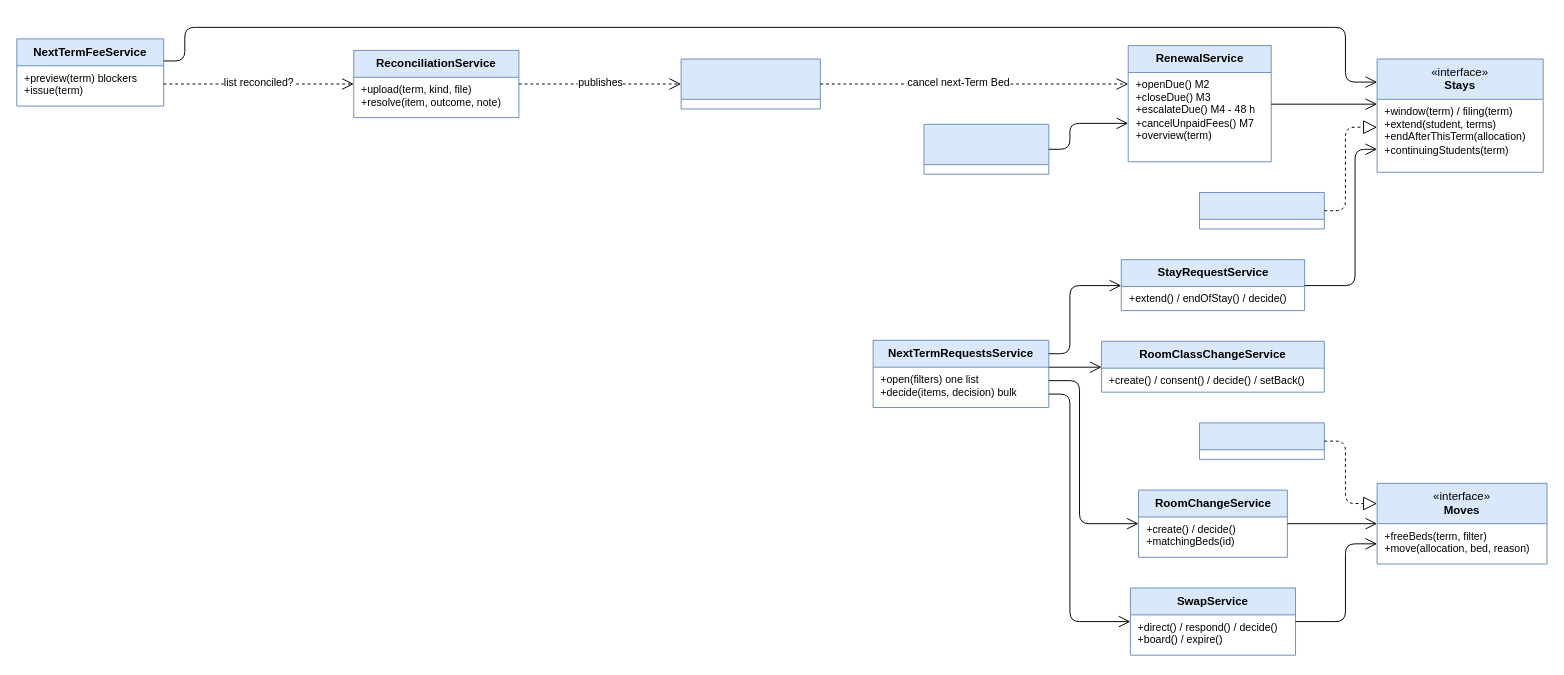
The diagram is 1564 pixels wide and 675 high, and some of its shapes have lost their labels. The shapes that lost their labels are listed below. From the top down, each one's centre as x and y in pixels, then its label:
the point at 750,83: «event» StudentNotEnrolled
the point at 986,148: «scheduled 15 min» RenewalJobs
the point at 1261,210: JdbcStays
the point at 1261,440: JdbcMoves
